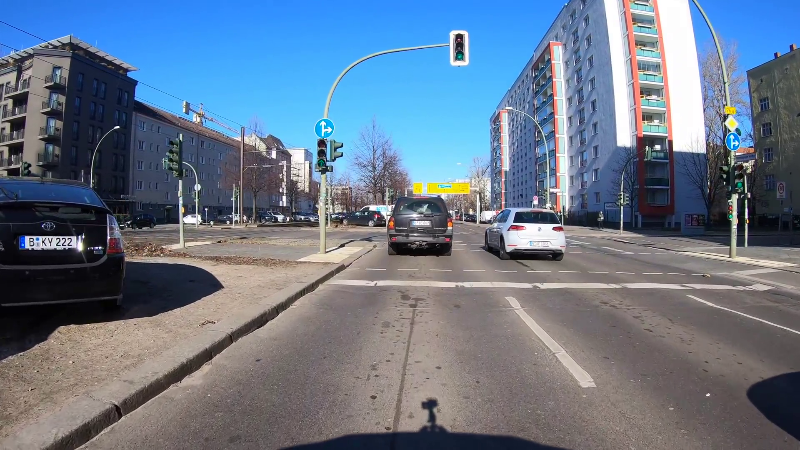Plate: (18, 234, 76, 249), (530, 239, 549, 246), (412, 220, 430, 226)
